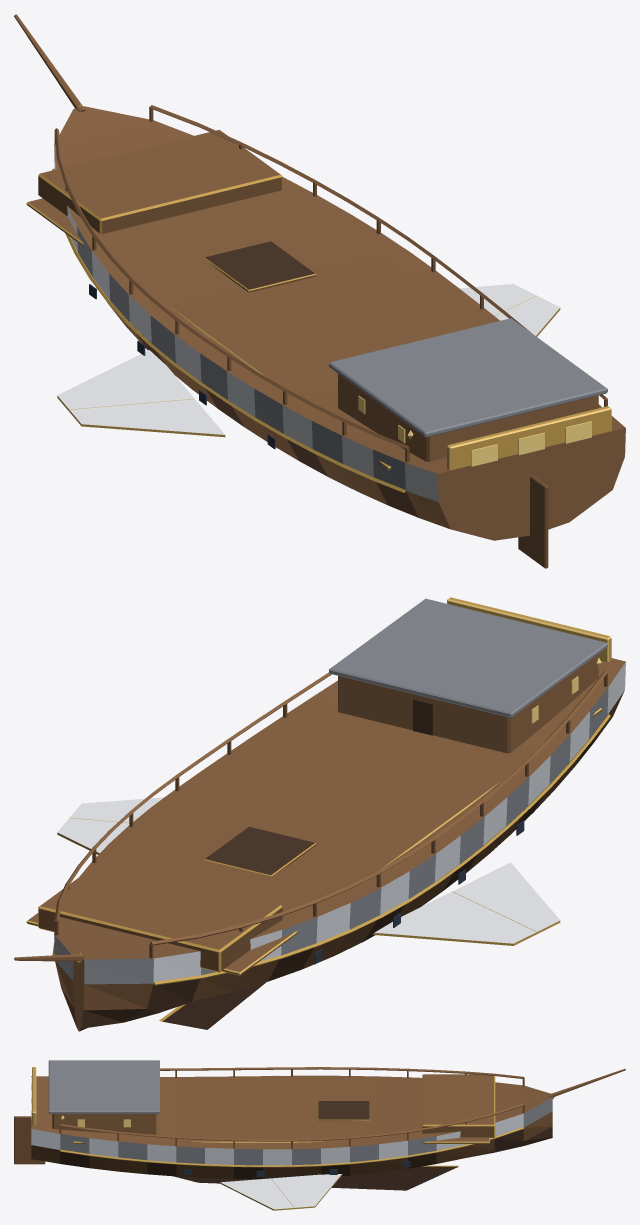
File: GalleonHull.obj
3 renders of one model, top to bottom at view 1: azimuth 30°, elevation 25°; view 2: azimuth 150°, elevation 25°; view 3: azimuth 270°, elevation 25°, orthographic. The views are drawn at different scales.
Bounding box in the file's own units: 21.97 × 9.65 × 42.27.
